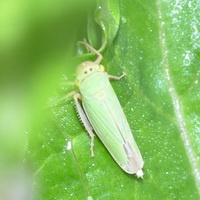insect: (73, 41, 143, 177)
